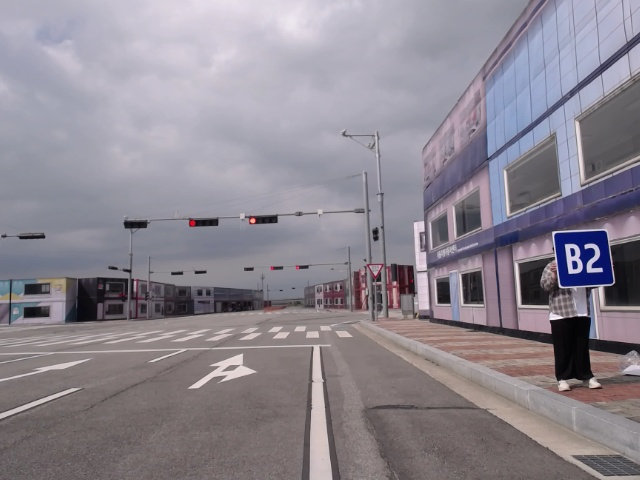delivery_b2: (552, 226, 617, 289)
red_4: (248, 215, 280, 224), (188, 218, 217, 227), (269, 264, 285, 272), (295, 265, 310, 271)
